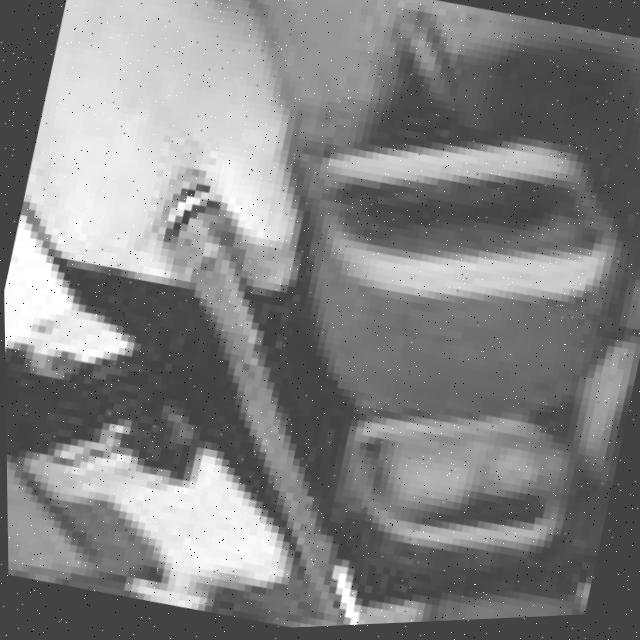knife: (87, 185, 467, 637)
